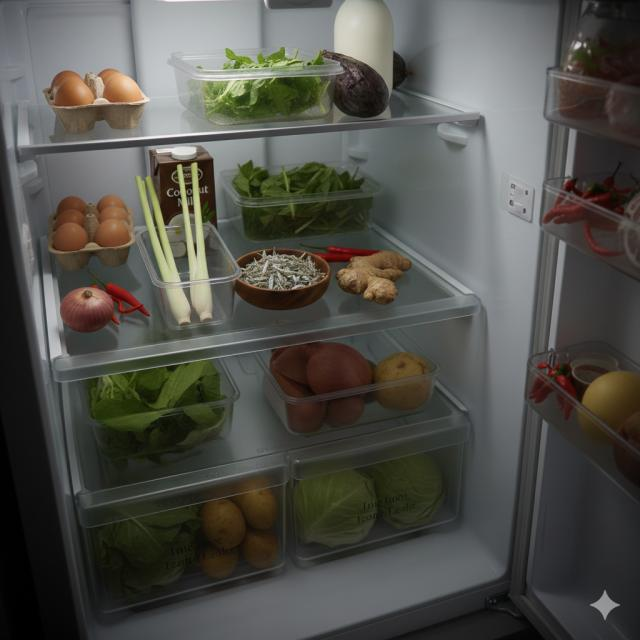anchovies: (240, 248, 326, 290)
cabbage: (293, 467, 377, 547), (376, 453, 446, 531)
chili: (87, 269, 151, 325), (300, 245, 382, 263)
egg: (42, 67, 152, 133), (48, 195, 134, 272)
ginger: (335, 251, 412, 304)
leafy_greens: (85, 359, 229, 458), (234, 158, 374, 240), (187, 48, 331, 122), (94, 498, 196, 597)
lemongrass: (135, 162, 213, 326)
onion: (60, 287, 114, 332)
potato: (199, 476, 279, 579), (373, 352, 431, 411)
